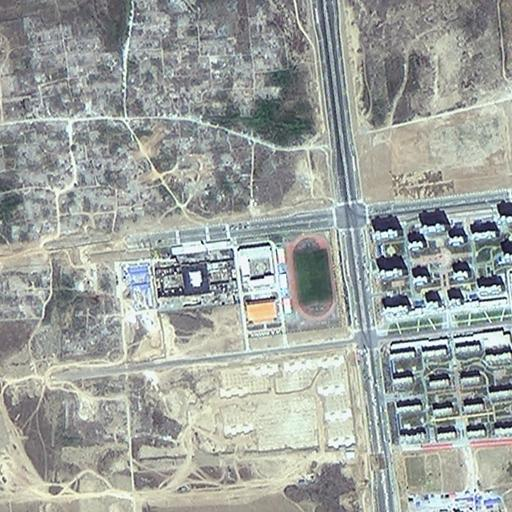school: (234, 225, 338, 338)
